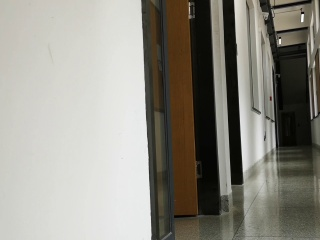room: (139, 1, 222, 227)
